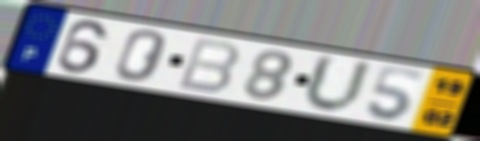0: (112, 28, 171, 83)
5: (366, 62, 429, 124)
6: (54, 19, 112, 75)
8: (242, 50, 297, 102)
B: (174, 35, 242, 96)
U: (299, 52, 376, 116)
